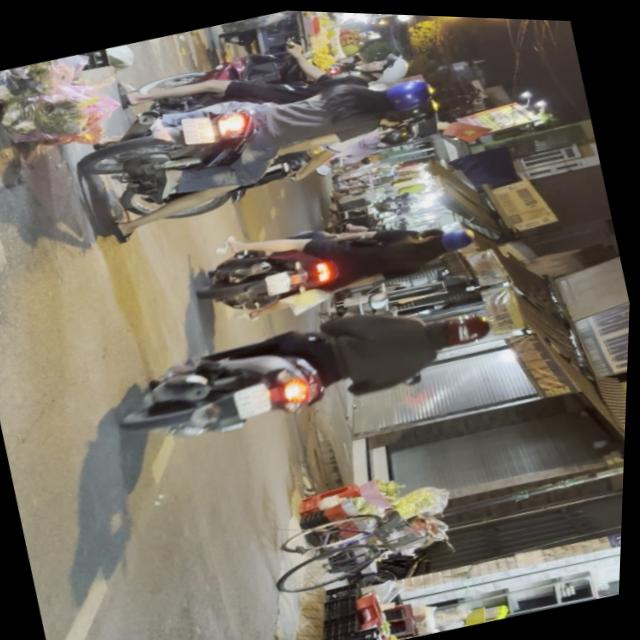helmet: (374, 70, 438, 117), (435, 305, 500, 350), (358, 44, 416, 87), (425, 218, 479, 257)
licenseplate: (66, 25, 461, 251), (107, 270, 511, 465), (189, 179, 489, 339)
nohelmet: (236, 379, 277, 417), (182, 112, 218, 145), (266, 267, 295, 293)
